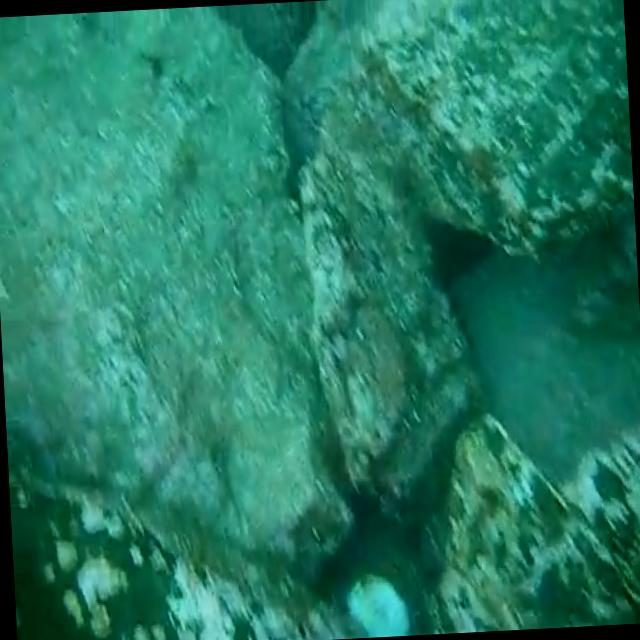Deniz Kestanesi: (345, 564, 417, 638)
